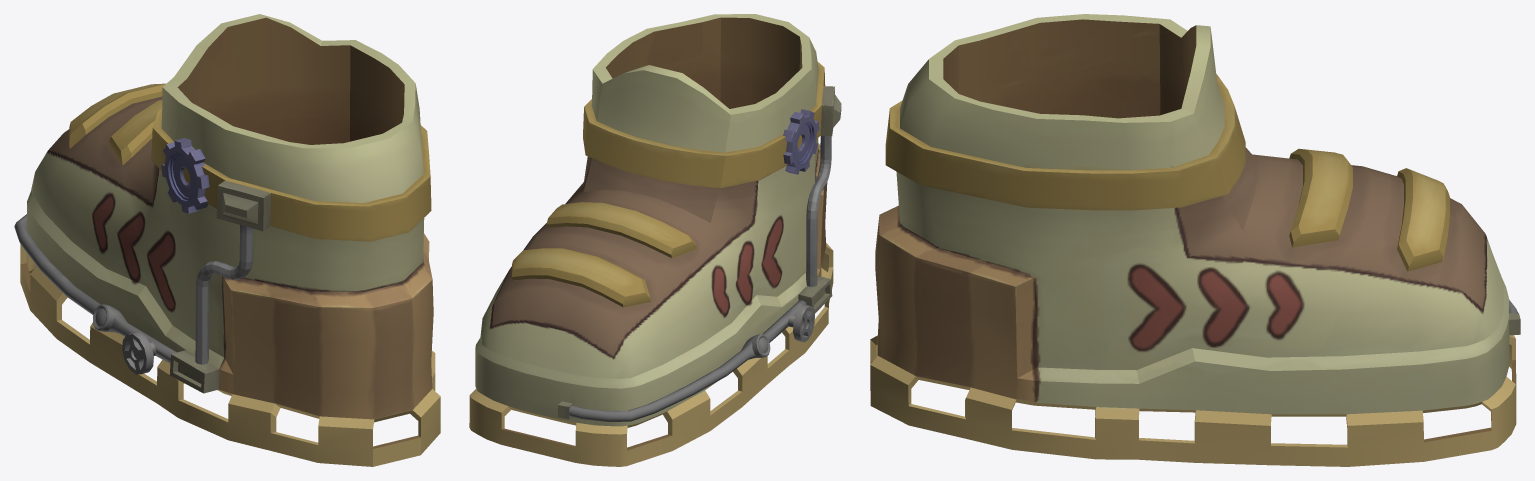
The model's file is shoes.fbx.
The picture shows the model from 3 angles, left to right: view 1: azimuth 30°, elevation 25°; view 2: azimuth 150°, elevation 25°; view 3: azimuth 270°, elevation 25°; orthographic projection. The views are drawn at different scales.
Parts seen in each view (by area): view 1: Cylinder.001; view 2: Cylinder.001; view 3: Cylinder.001.
Part boxes in pixels (x1,y1,x2,y2): Cylinder.001: (14,14,440,466); Cylinder.001: (469,14,841,466); Cylinder.001: (870,14,1520,466).
Bounding box in the file's own units: 136 × 167 × 268.
